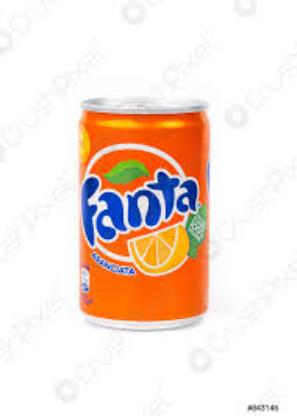Can: (74, 91, 212, 333)
